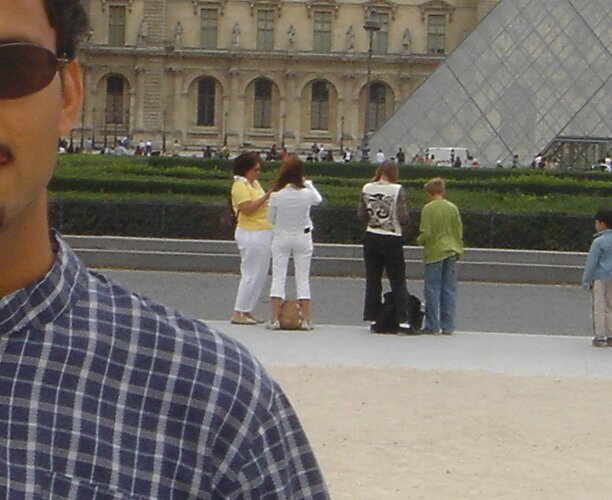person: (262, 153, 331, 319), (353, 158, 417, 335), (219, 149, 277, 320), (416, 180, 463, 335)
